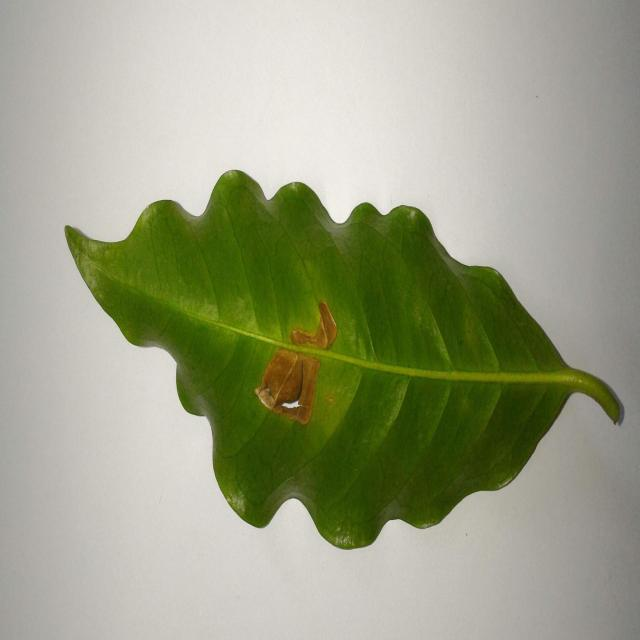miner: (255, 349, 320, 425), (291, 301, 337, 349)
